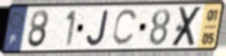1: (65, 9, 78, 48)
8: (147, 7, 172, 49), (26, 8, 51, 50)
C: (110, 8, 139, 48)
J: (85, 9, 110, 48)
X: (170, 5, 204, 49)
